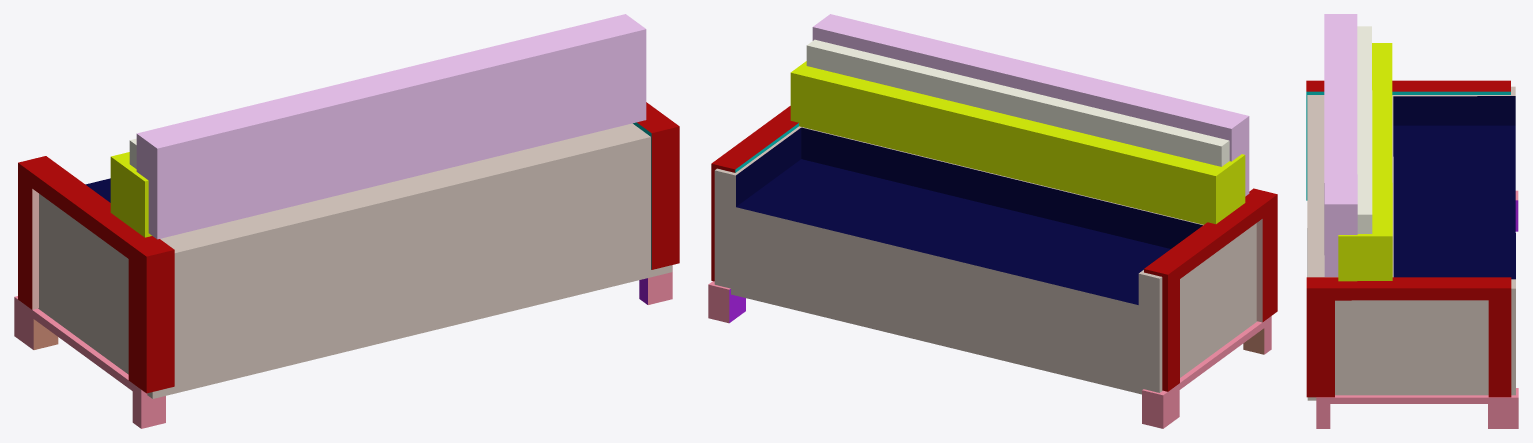
Rendered from 04256520_couch_142.glb.
3 views of the same model, side by side, from view 1: azimuth 30°, elevation 25°; view 2: azimuth 150°, elevation 25°; view 3: azimuth 270°, elevation 25° (orthographic). The views are drawn at different scales.
Parts seen in each view (by area): view 1: Plane; view 2: Plane; view 3: Plane.
Boxes of the visible parts, bbox=[...] form: Plane: bbox=[14, 14, 679, 428]; Plane: bbox=[708, 14, 1277, 428]; Plane: bbox=[1306, 14, 1518, 428].
Size of the model in its own units: 1.72 by 0.8357 by 0.7439.
